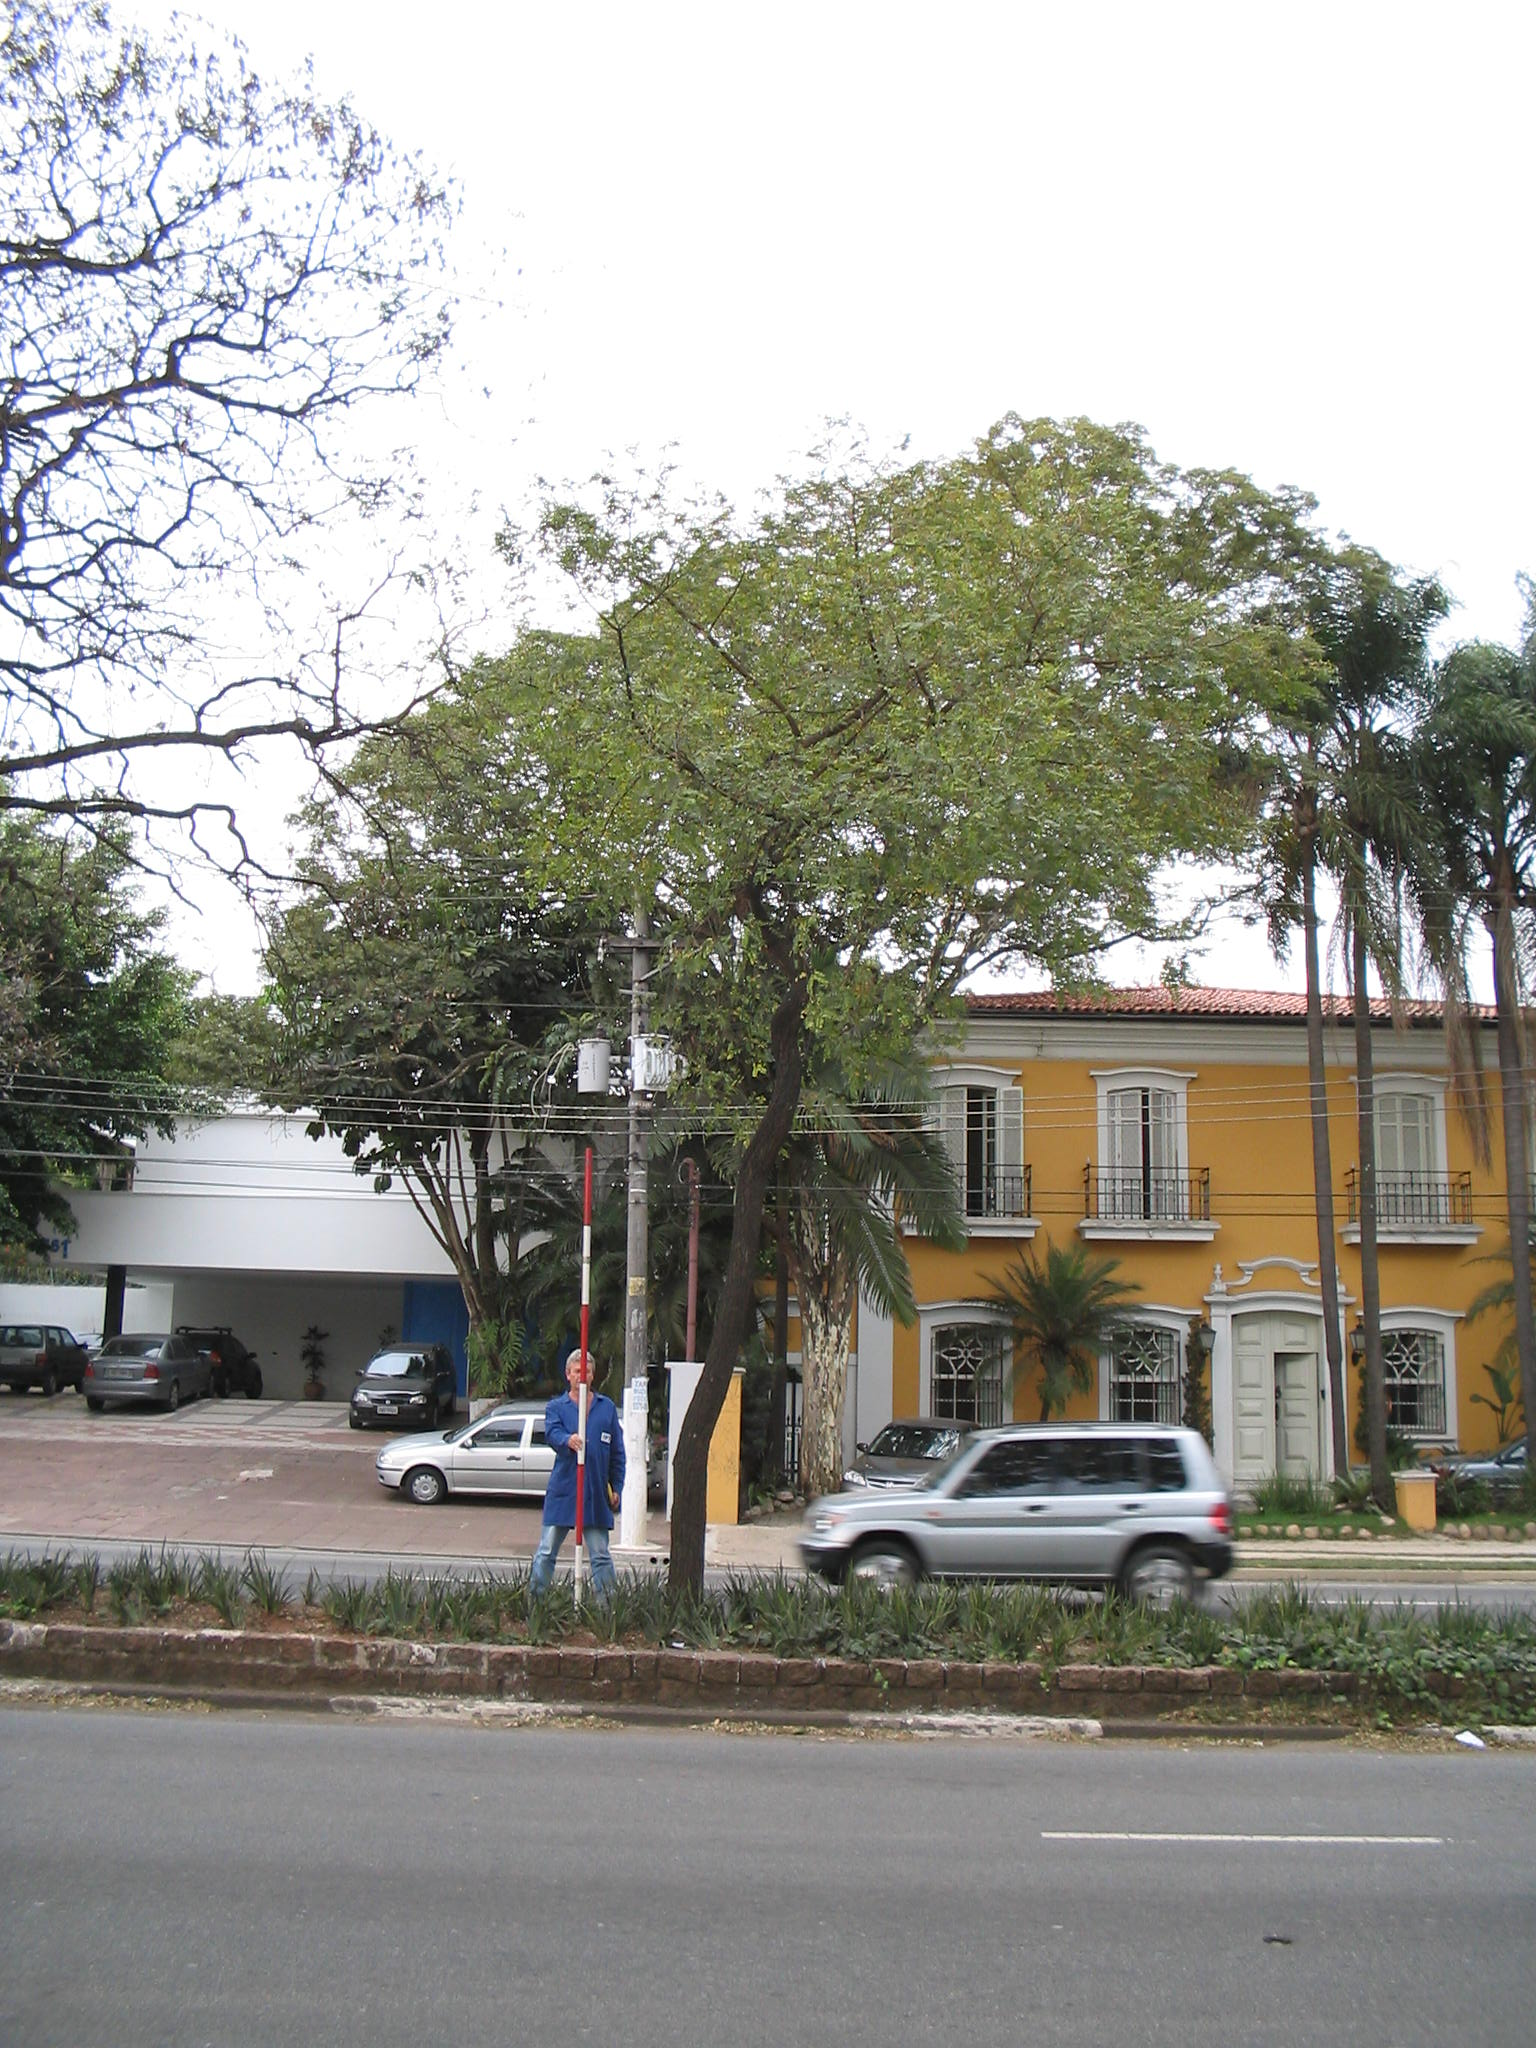crown: (470, 418, 1317, 1095)
stem: (632, 1079, 808, 1605)
stick: (542, 1142, 624, 1622)
tree: (461, 413, 1328, 1616), (1359, 645, 1536, 1484)
